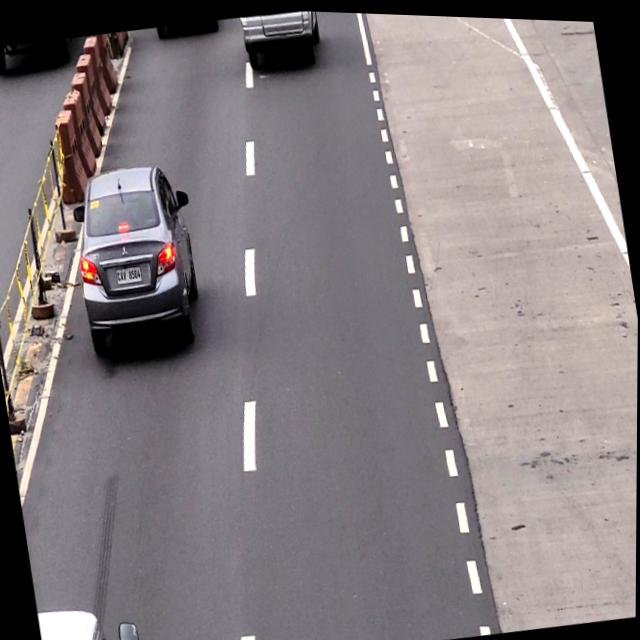Car: (67, 161, 203, 365)
License-Plate: (113, 260, 146, 289)
